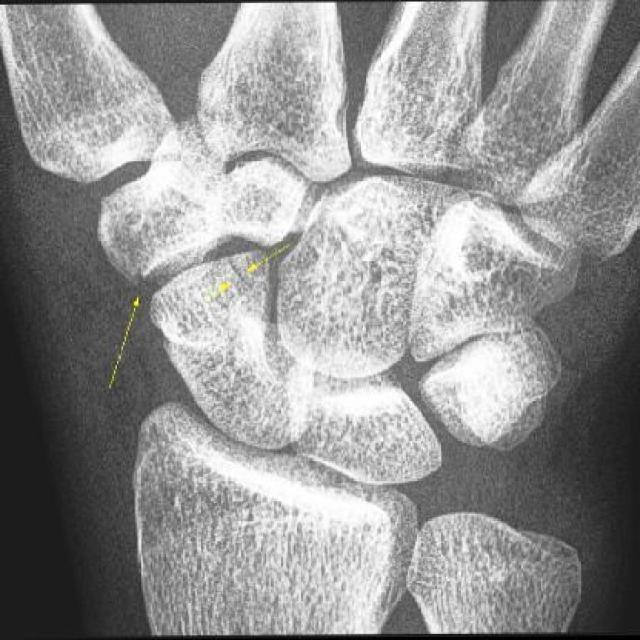Fracture: (103, 105, 272, 255)
